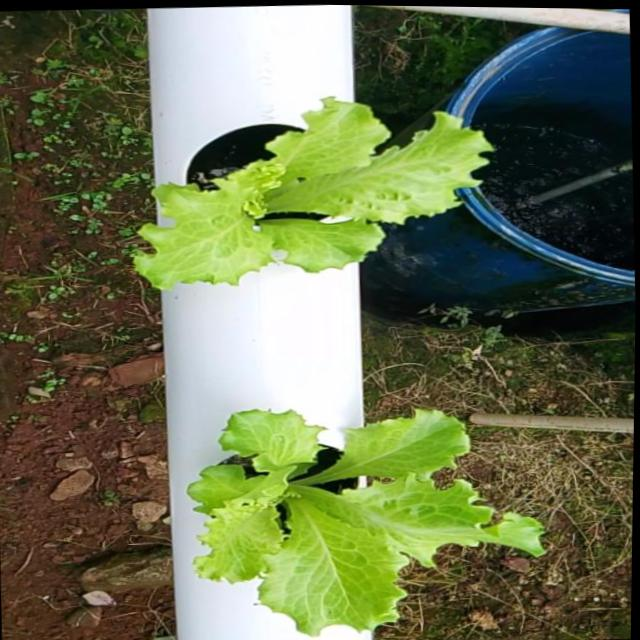Baby: (188, 403, 545, 634), (131, 86, 492, 280)
